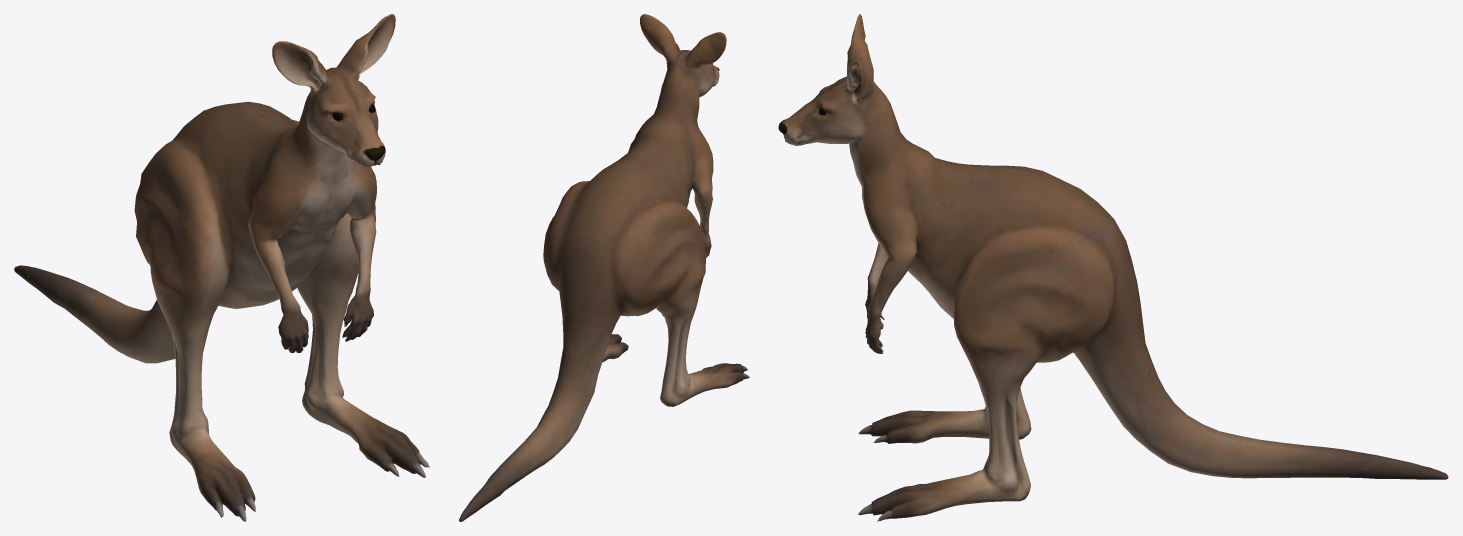
The model's file is kangaroo-yuto.glb.
3 views of the same model, side by side, from view 1: azimuth 30°, elevation 25°; view 2: azimuth 150°, elevation 25°; view 3: azimuth 270°, elevation 25° (orthographic). The views are drawn at different scales.
Parts seen in each view (by area): view 1: geometry_0; view 2: geometry_0; view 3: geometry_0.
Part boxes in pixels (bbox=[...]): geometry_0: bbox=[14, 14, 430, 521]; geometry_0: bbox=[459, 14, 749, 521]; geometry_0: bbox=[778, 14, 1448, 521].
Bounding box in the file's own units: 0.3174 × 0.6914 × 0.9536.
1 material, 1 textured.
